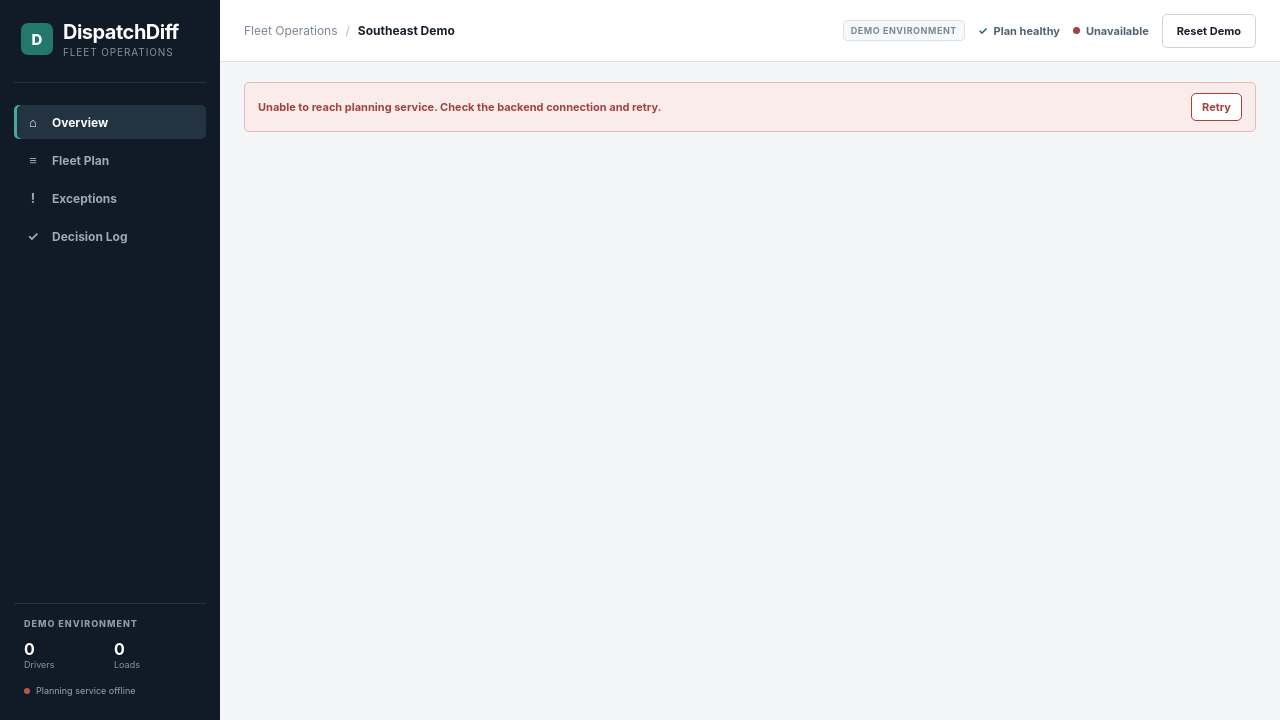
CommandCenter › shows an API error and retries
The image size is (1280, 720).
Check: the message shows "Unable to reach planning service", box 258,100 -> 661,114
Click the button "Retry" at (1216, 107), box 1191,93 -> 1242,121
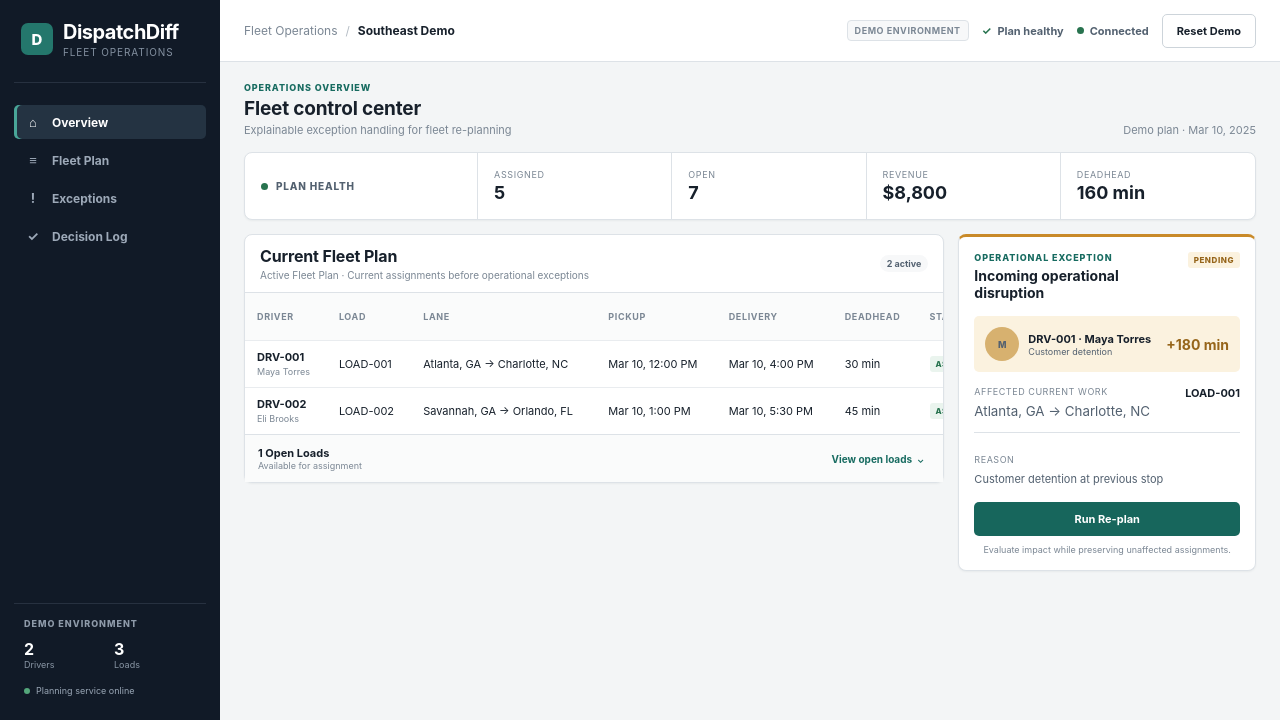
Check: the heading "Current Fleet Plan" is shown, box 260,246 -> 397,266
